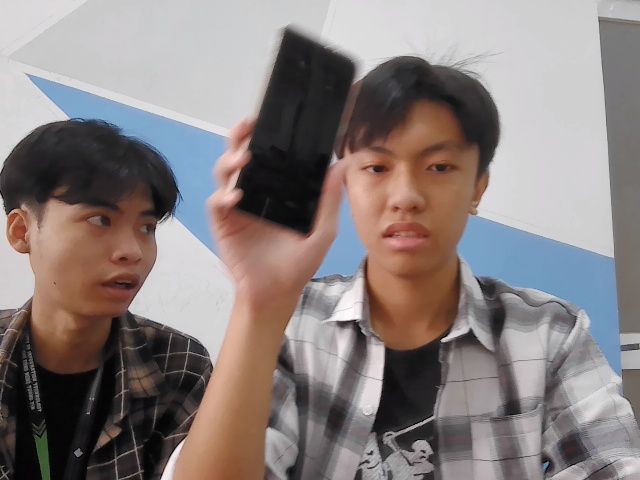human: (347, 45, 504, 291), (3, 114, 174, 333)
phone: (228, 26, 361, 241)
